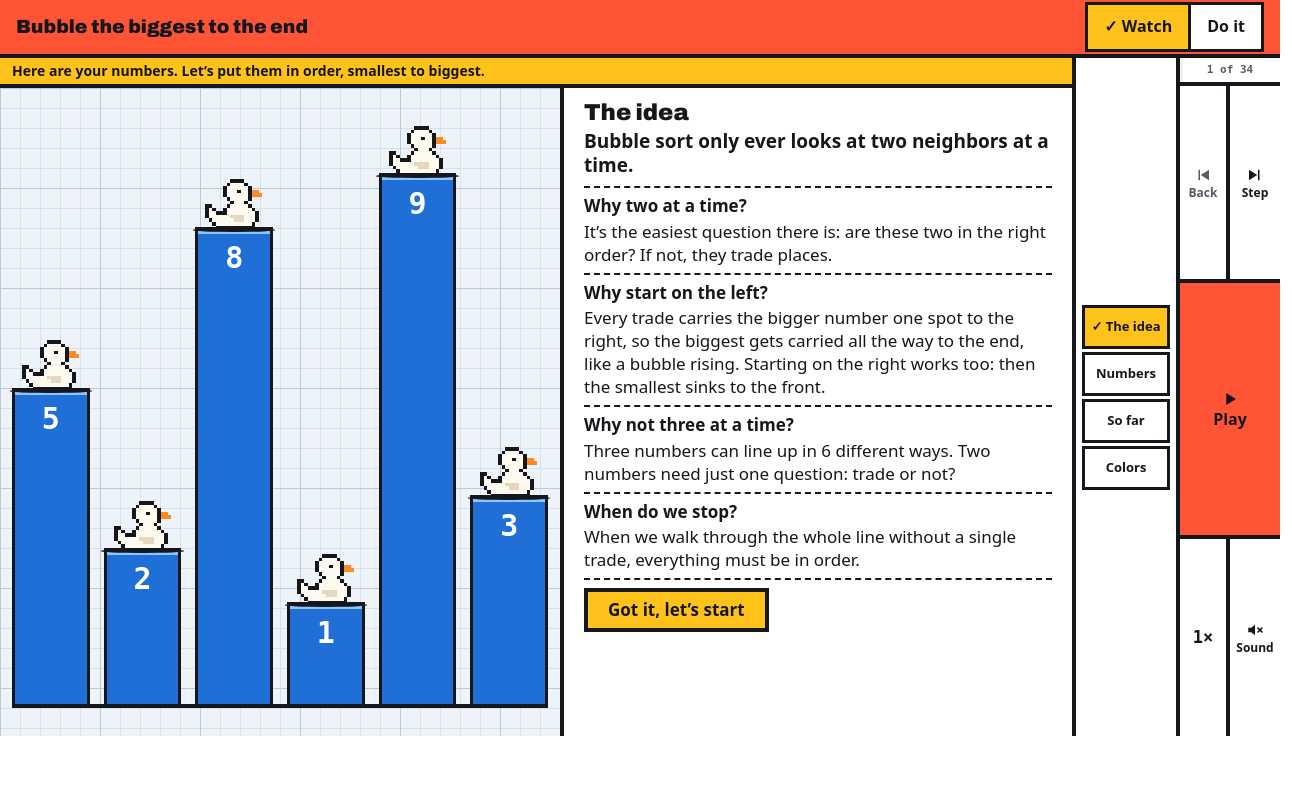
it: phone workspace: sheets › Explorer: Colors holds the color key and the counts
What coordinates should you click on to do the following:
click the button "Colors"
I would click on:
 (1126, 468)
Its box is [1082, 446, 1170, 490].
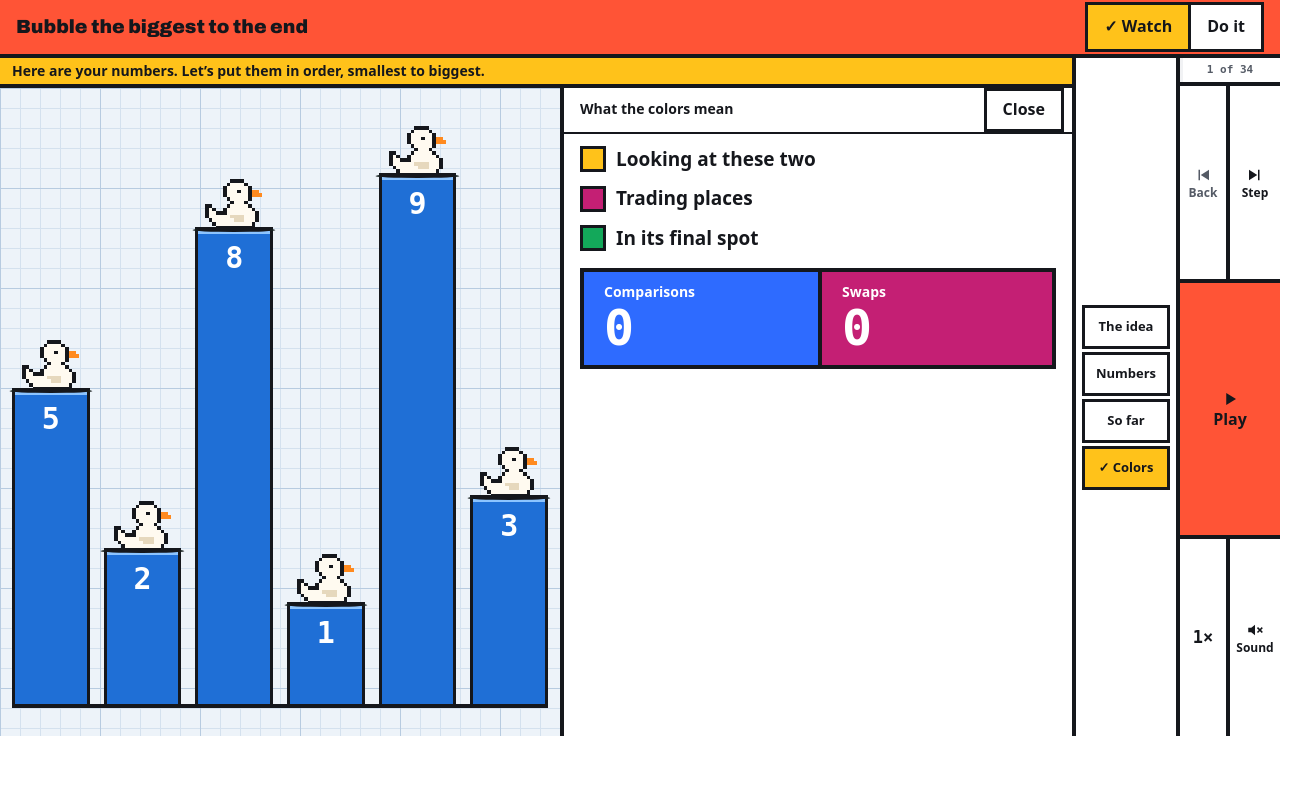
Expected: the list item "Trading places" is shown, [580, 185, 753, 212]
Expected: the text "Comparisons" is shown, [604, 282, 695, 301]
